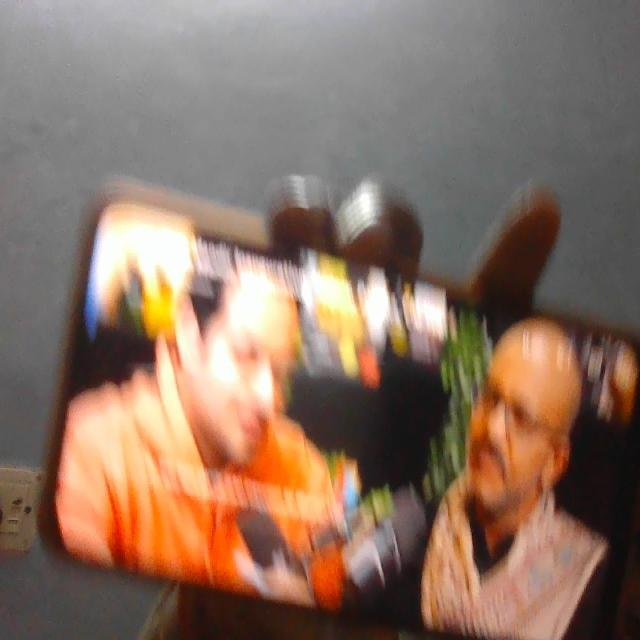fake: (452, 288, 576, 523)
